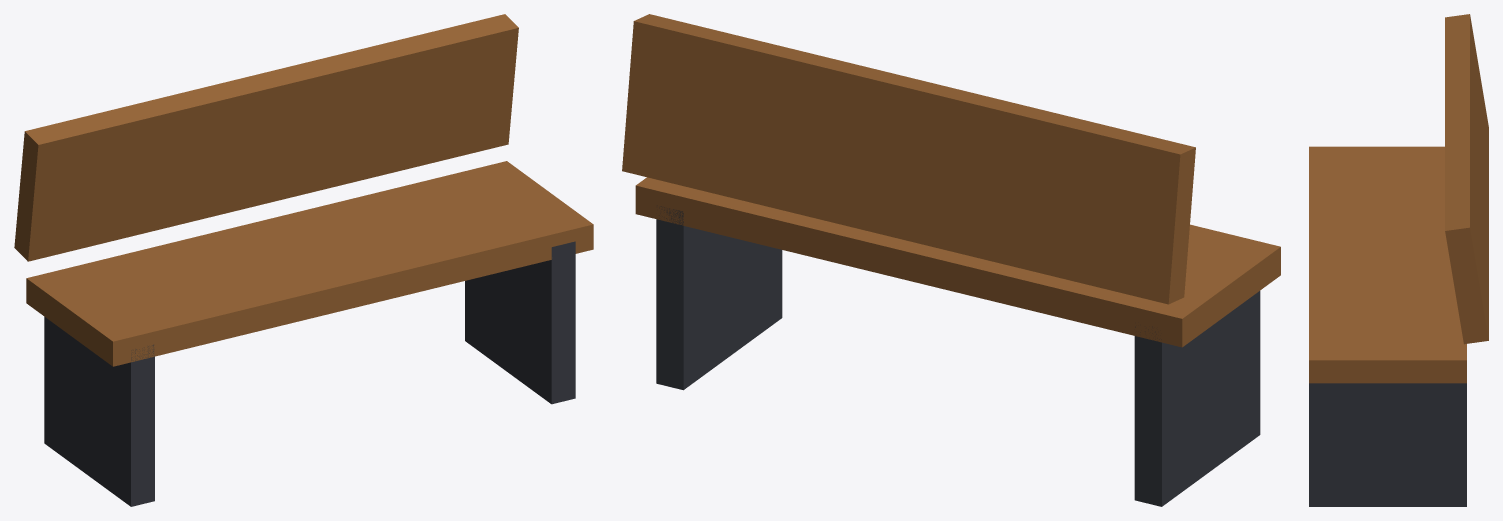
Rendered from bench.glb.
The picture shows the model from 3 angles, left to right: view 1: azimuth 30°, elevation 25°; view 2: azimuth 150°, elevation 25°; view 3: azimuth 270°, elevation 25°; orthographic projection. The views are drawn at different scales.
Parts seen in each view (by area): view 1: bench; view 2: bench; view 3: bench.
Boxes of the visible parts, box(x1,y1,x2,y2) form: bench: box(14, 14, 593, 506); bench: box(622, 14, 1280, 506); bench: box(1309, 14, 1488, 506).
Size of the model in its own units: 1.6 by 1 by 0.5694.
